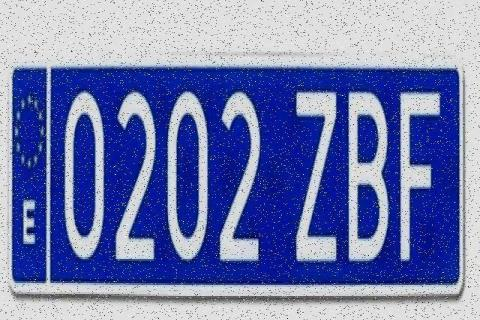LicensePlate: (9, 59, 463, 291)
